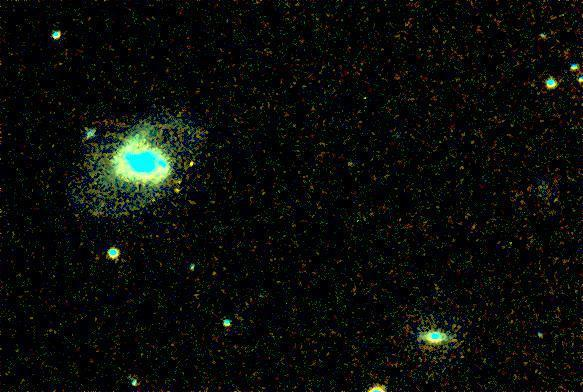star: (159, 175, 189, 205)
